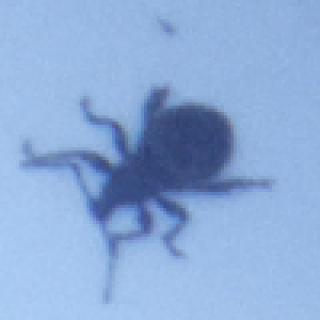bvw: (15, 83, 278, 303)
